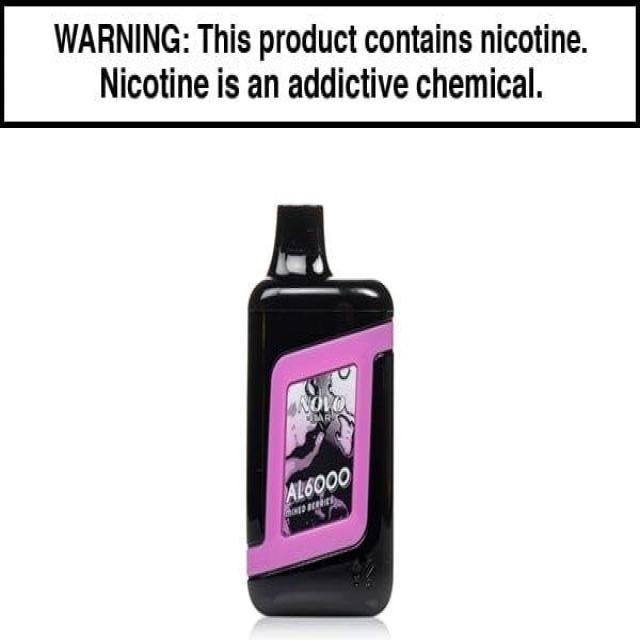Vapes: (244, 202, 395, 618)
